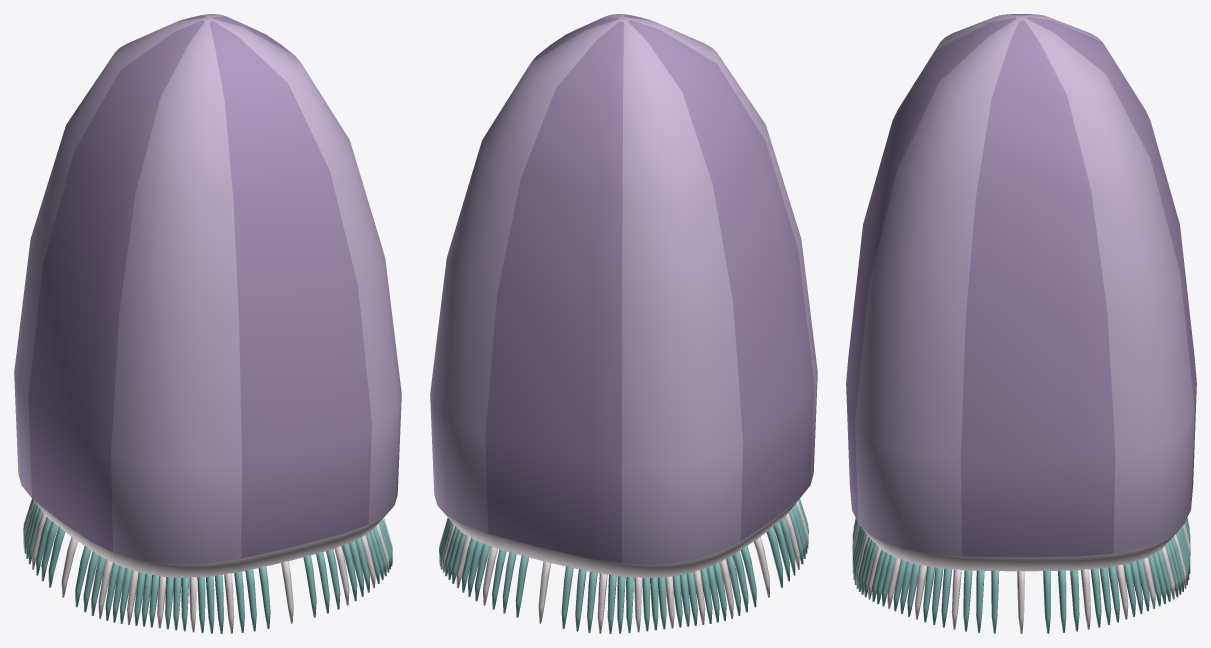
File: burgessomedusa.glb
3 views of the same model, side by side, from view 1: azimuth 30°, elevation 25°; view 2: azimuth 150°, elevation 25°; view 3: azimuth 270°, elevation 25° (orthographic).
Parts seen in each view (by area): view 1: hollow-rounded-square-bell, ninety-six-short-marginal-tentacles; view 2: hollow-rounded-square-bell, ninety-six-short-marginal-tentacles; view 3: hollow-rounded-square-bell, ninety-six-short-marginal-tentacles.
Boxes of the visible parts, <box> form: hollow-rounded-square-bell: <box>14,14,401,577</box>; ninety-six-short-marginal-tentacles: <box>23,499,392,633</box>; hollow-rounded-square-bell: <box>430,14,817,577</box>; ninety-six-short-marginal-tentacles: <box>439,499,808,633</box>; hollow-rounded-square-bell: <box>846,14,1196,571</box>; ninety-six-short-marginal-tentacles: <box>852,518,1190,633</box>.
Size of the model in its own units: 0.094 by 0.161 by 0.094.
